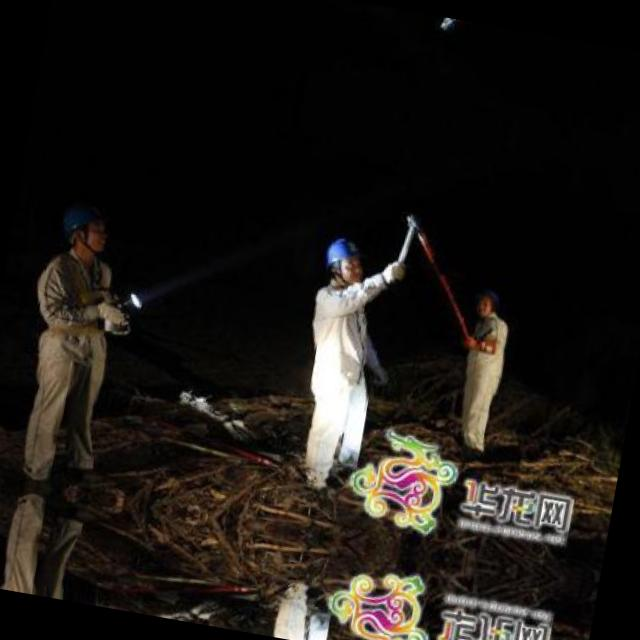helmet: (52, 192, 118, 264), (317, 225, 367, 291), (471, 284, 502, 318)
